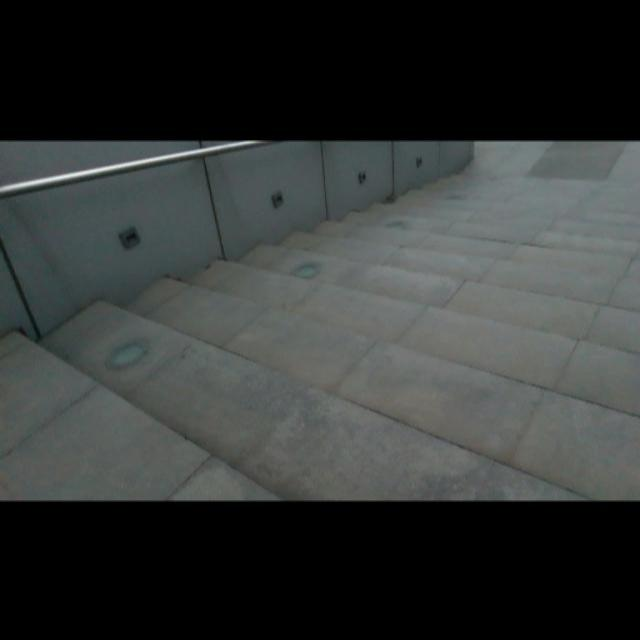stair: (52, 184, 640, 452)
